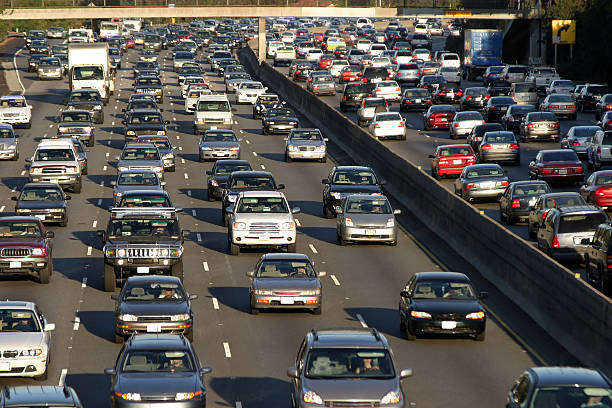car: (290, 330, 404, 408), (114, 334, 198, 408), (400, 269, 486, 339), (104, 209, 184, 275), (117, 272, 195, 336), (510, 364, 611, 408), (250, 253, 321, 313), (231, 189, 293, 253), (1, 215, 55, 284), (1, 299, 49, 376), (542, 204, 603, 263), (338, 194, 397, 243), (30, 140, 81, 189), (500, 176, 552, 218), (225, 168, 274, 212), (326, 166, 379, 206), (206, 159, 255, 197), (21, 182, 71, 218), (1, 386, 81, 408), (461, 162, 506, 200), (431, 142, 476, 178), (533, 148, 583, 180), (193, 92, 234, 131), (117, 141, 166, 173), (124, 107, 170, 140), (116, 189, 173, 215), (113, 168, 162, 198), (288, 125, 326, 161), (198, 130, 242, 161), (479, 130, 521, 162), (56, 111, 96, 142), (369, 110, 406, 143), (523, 109, 560, 142), (356, 93, 390, 127), (580, 170, 612, 205), (424, 102, 458, 134), (1, 93, 32, 127), (263, 103, 298, 132), (449, 108, 483, 137), (69, 90, 104, 118), (340, 84, 371, 115), (565, 125, 593, 156), (1, 122, 20, 165), (400, 86, 431, 112), (36, 57, 65, 84), (308, 72, 337, 99), (460, 84, 491, 109), (530, 64, 561, 88), (544, 95, 579, 116), (336, 61, 364, 86), (374, 75, 400, 101), (135, 75, 163, 98), (237, 80, 266, 102), (273, 44, 298, 66), (441, 63, 463, 85), (483, 62, 501, 82)
right turn: (552, 21, 576, 45)
truck: (66, 40, 113, 94), (463, 26, 506, 77)
